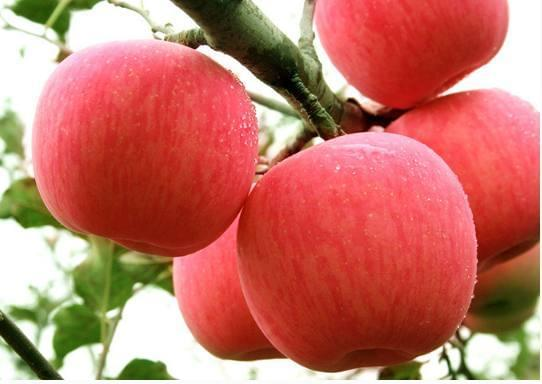apple: (238, 131, 480, 376), (32, 38, 255, 259)
